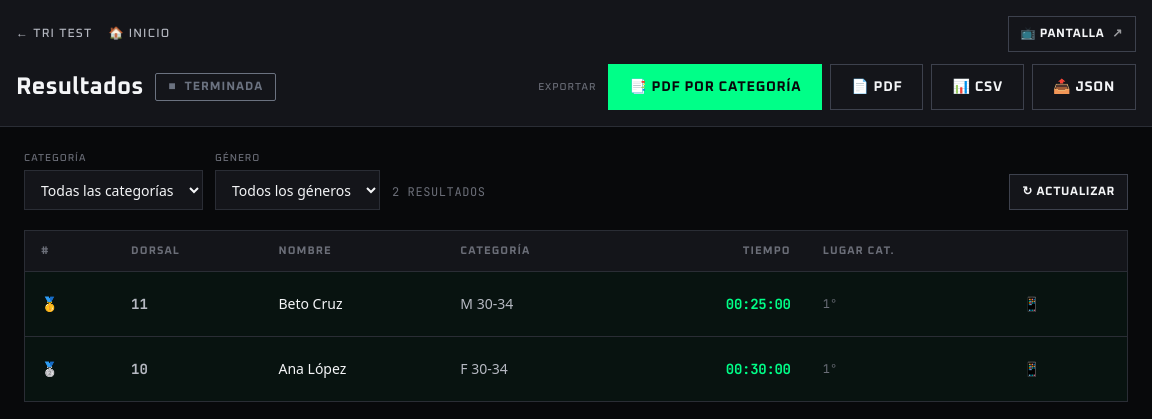
Test case: Resultados — controles › filters rows with the labelled Categoría select
Expected: the text "Ana López" is shown, x1=262 y1=336 x2=444 y2=401
Select "F 30-34" in the dropdown labelled "Categoría" at (114, 190), box x1=24 y1=170 x2=203 y2=210
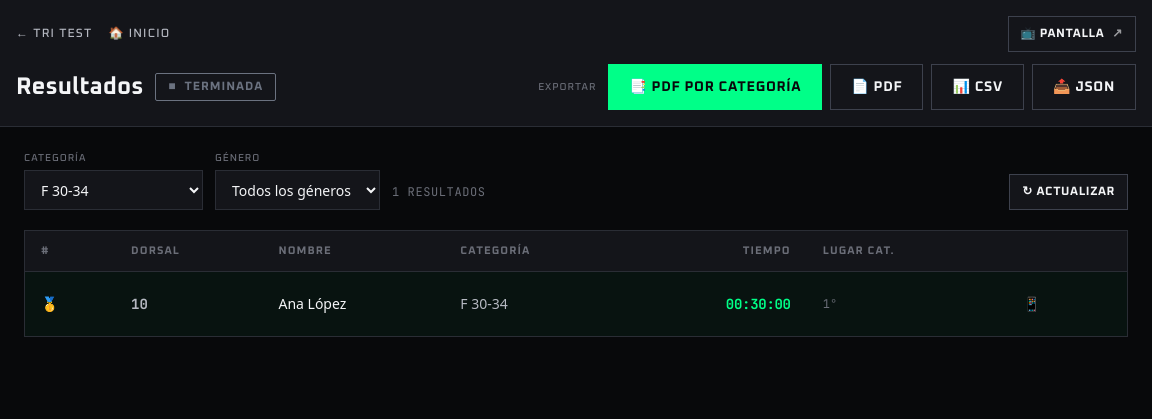
Expected: the text "Ana López" is shown, x1=262 y1=271 x2=444 y2=336
Expected: the text "Beto Cruz" is gone
